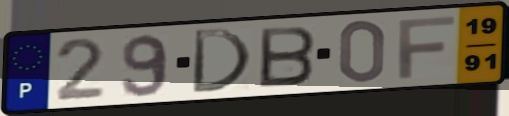0: (335, 18, 388, 86)
2: (52, 36, 108, 104)
9: (118, 32, 170, 98)
B: (257, 23, 319, 90)
D: (188, 27, 255, 95)
F: (395, 14, 458, 81)
